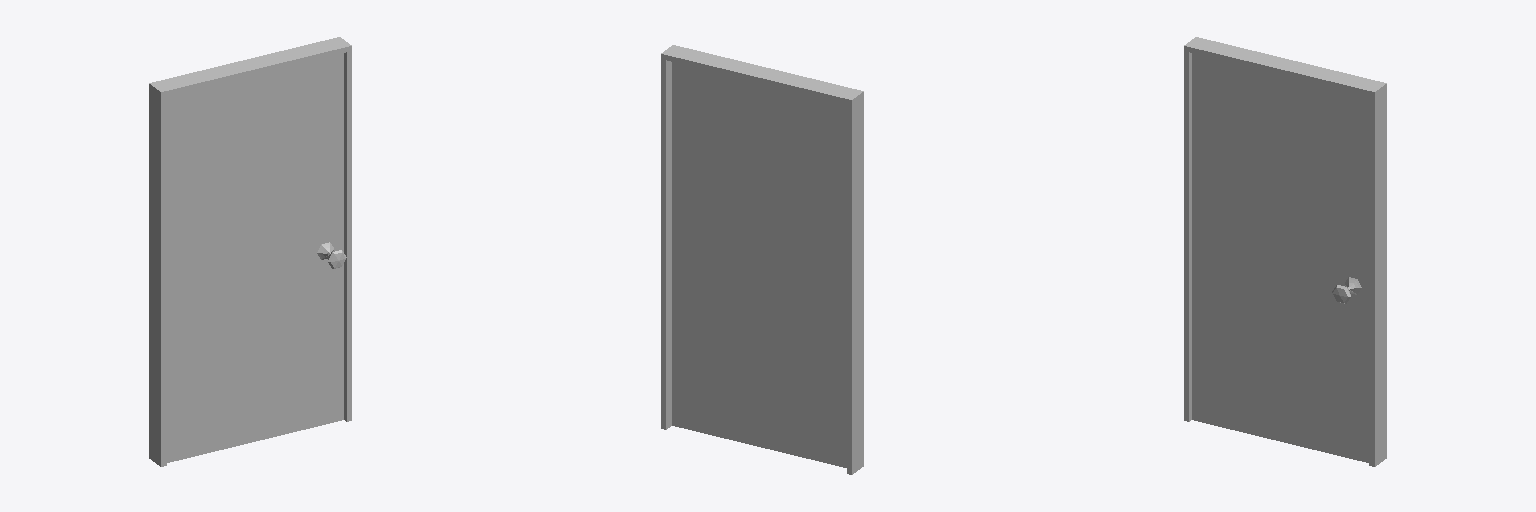
File: porta.obj
3 renders of one model, left to right at view 1: azimuth 30°, elevation 25°; view 2: azimuth 150°, elevation 25°; view 3: azimuth 330°, elevation 25°, orthographic.
Parts seen in each view (by area): view 1: Curve_Porta; view 2: Curve_Porta; view 3: Curve_Porta.
Boxes of the visible parts, <box> form: Curve_Porta: <box>149,37,351,466</box>; Curve_Porta: <box>661,45,863,474</box>; Curve_Porta: <box>1184,37,1386,466</box>.
Size of the model in its own units: 108 by 203 by 22.74.